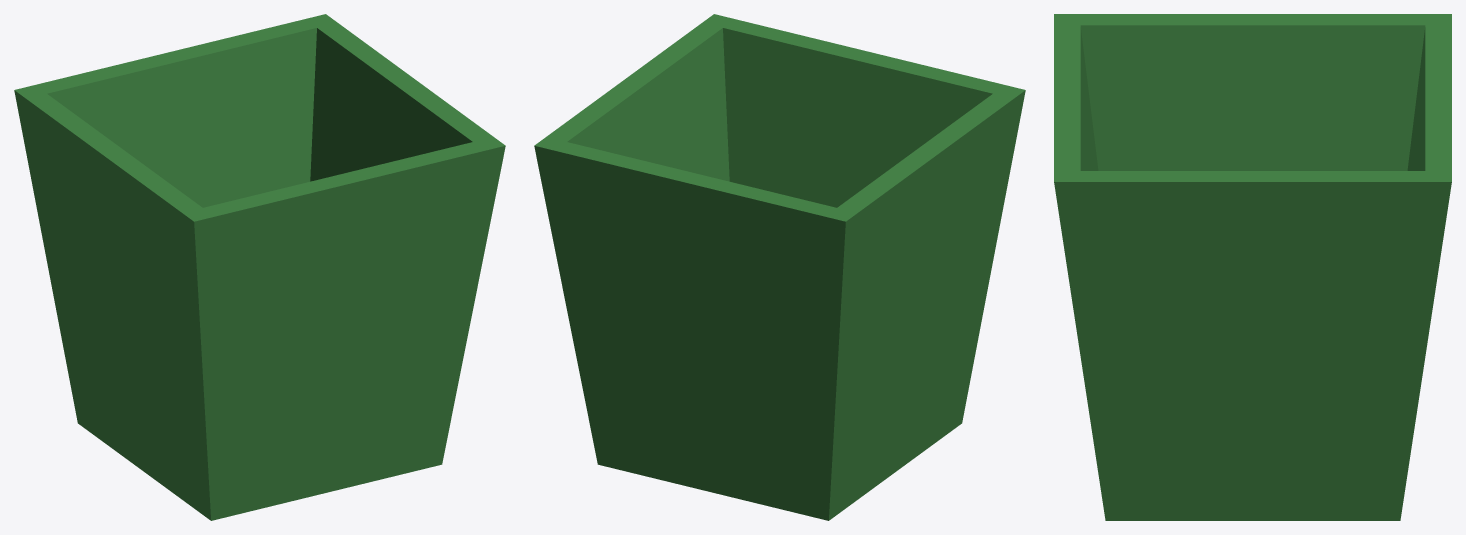
Rendered from trashBox.glb.
The picture shows the model from 3 angles, left to right: view 1: azimuth 30°, elevation 25°; view 2: azimuth 150°, elevation 25°; view 3: azimuth 270°, elevation 25°; orthographic projection. The views are drawn at different scales.
Visible parts, largest first — view 1: trashBox; view 2: trashBox; view 3: trashBox.
Part boxes in pixels (box(x1,y1,x2,y2)): trashBox: box(14, 14, 505, 520); trashBox: box(534, 14, 1025, 520); trashBox: box(1054, 14, 1451, 520).
Size of the model in its own units: 0.45 by 0.45 by 0.45.
